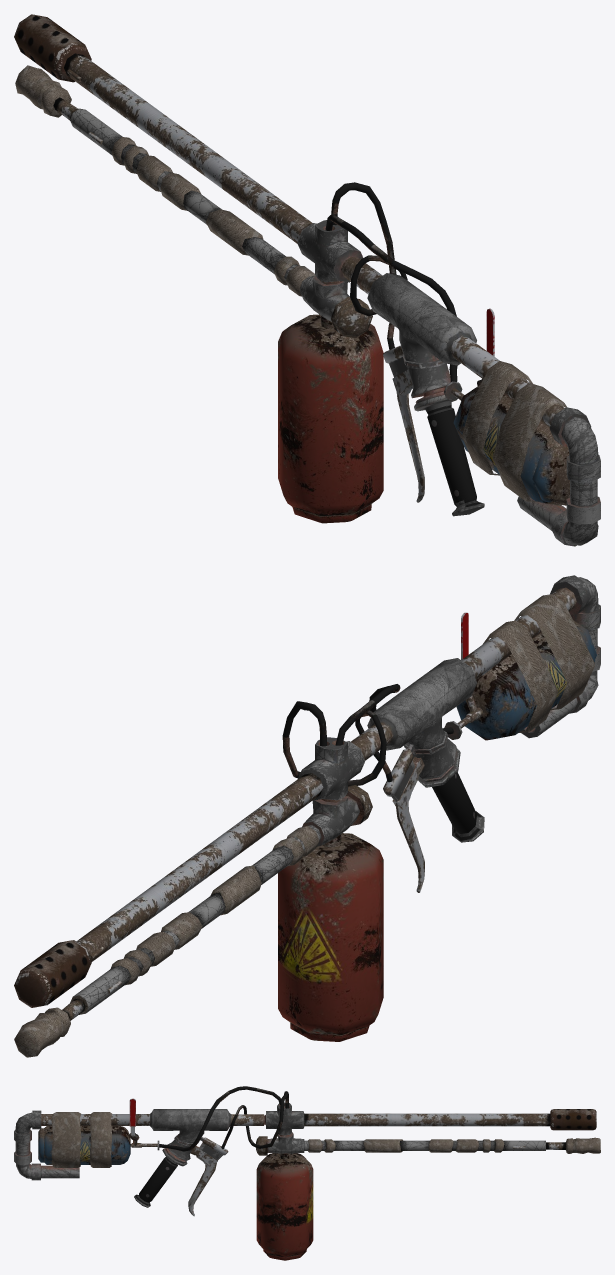
Rendered from flamethrower.glb.
The picture shows the model from 3 angles, top to bottom: view 1: azimuth 30°, elevation 25°; view 2: azimuth 150°, elevation 25°; view 3: azimuth 270°, elevation 25°; orthographic projection. The views are drawn at different scales.
Visible parts, largest first — view 1: Flamethrower; view 2: Flamethrower; view 3: Flamethrower.
Part boxes in pixels (x1,y1,x2,y2): Flamethrower: (14, 14, 600, 546); Flamethrower: (14, 575, 600, 1057); Flamethrower: (14, 1086, 600, 1260).
Size of the model in its own units: 0.1242 by 0.3753 by 1.2.
Materials: 1 (1 with a texture image).
